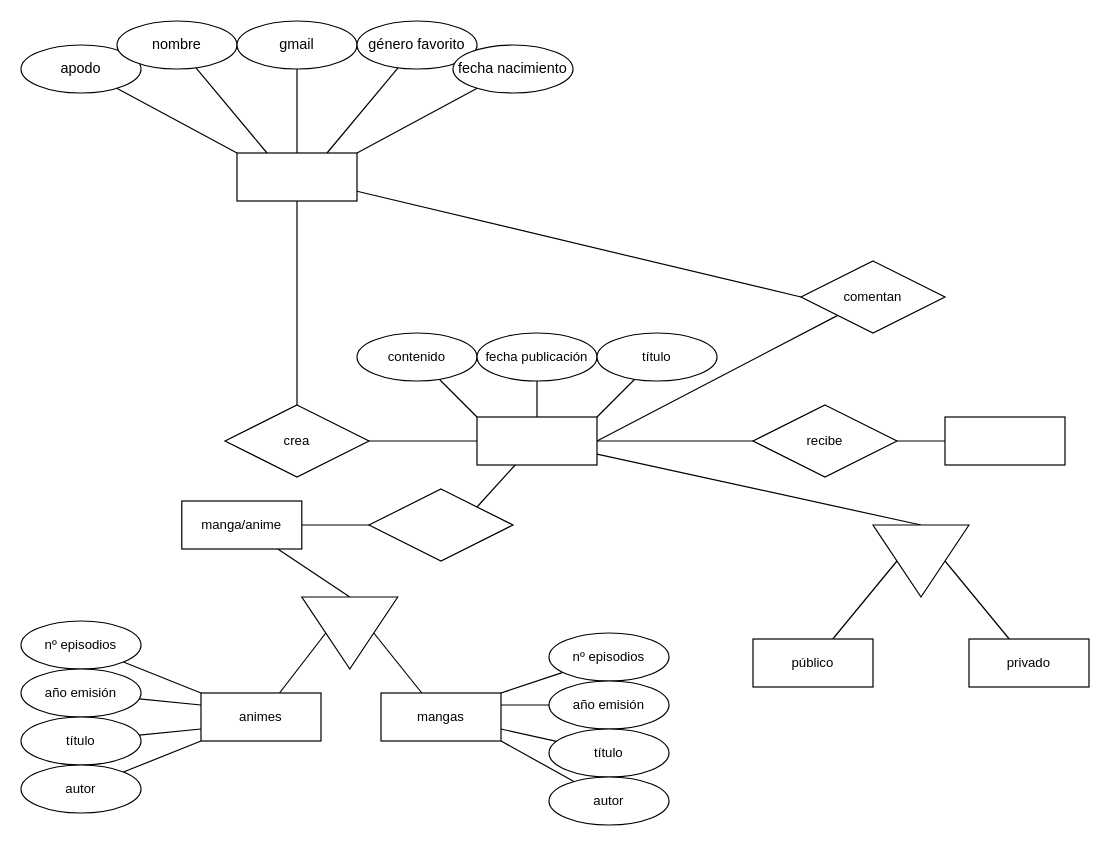
The diagram is 1110 pixels wide and 846 high, and some of its shapes have lost their labels. Each missing label, with the centre of its shape:
acerca de: the point at 440,524
me gusta: the point at 1004,440
publicación: the point at 536,440
usuario: the point at 296,176
